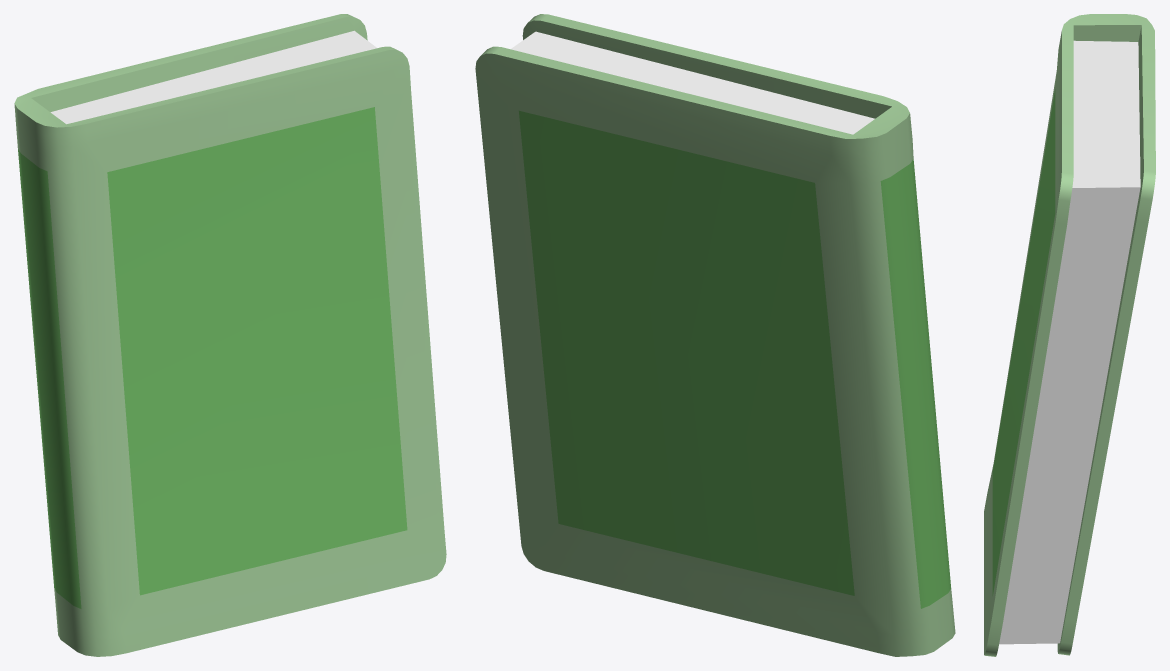
The model's file is book_13.fbx.
3 renders of one model, left to right at view 1: azimuth 30°, elevation 25°; view 2: azimuth 150°, elevation 25°; view 3: azimuth 270°, elevation 25°, orthographic. The views are drawn at different scales.
Parts seen in each view (by area): view 1: book_13; view 2: book_13; view 3: book_13.
Part boxes in pixels (x1,y1,x2,y2): book_13: [14, 14, 446, 656]; book_13: [475, 14, 955, 656]; book_13: [984, 14, 1155, 656].
Bounding box in the file's own units: 0.3135 × 0.4221 × 0.1358.
